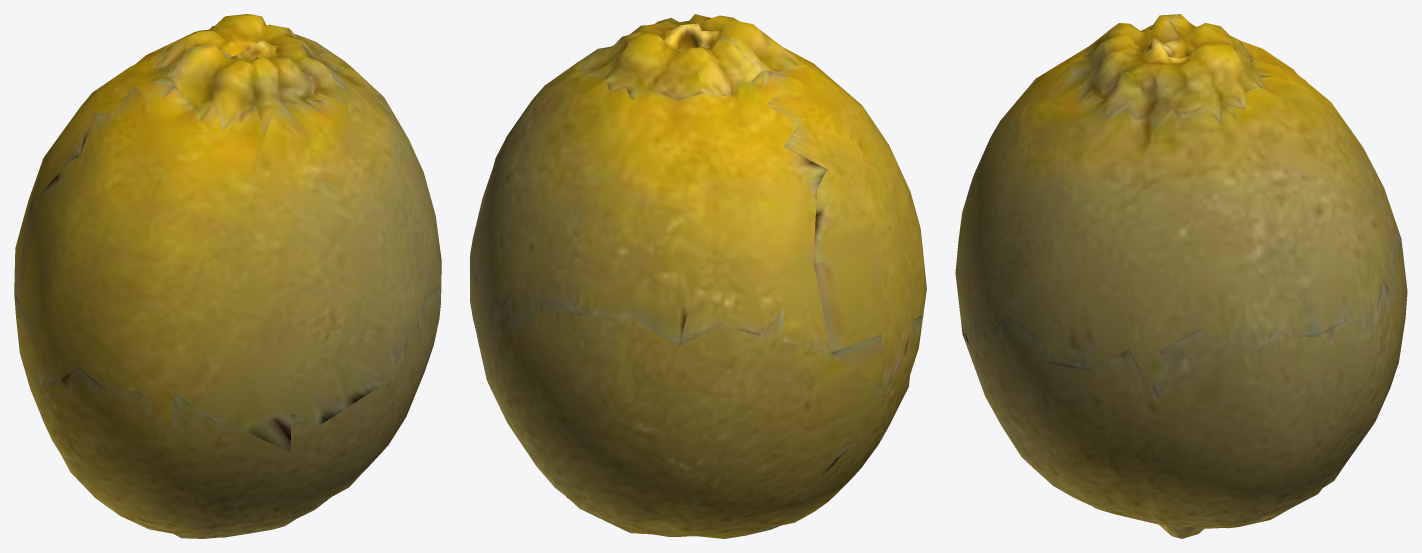
File: yuzu.glb
The picture shows the model from 3 angles, left to right: view 1: azimuth 30°, elevation 25°; view 2: azimuth 150°, elevation 25°; view 3: azimuth 270°, elevation 25°; orthographic projection.
Parts seen in each view (by area): view 1: yuzu_lod0; view 2: yuzu_lod0; view 3: yuzu_lod0.
Boxes of the visible parts, x1,y1,x2,y2 form: yuzu_lod0: [14, 14, 441, 538]; yuzu_lod0: [470, 14, 926, 538]; yuzu_lod0: [955, 14, 1407, 538].
Size of what is drawn, in the model's own units: 0.0599 by 0.0754 by 0.0613.
1 material, 1 textured.
